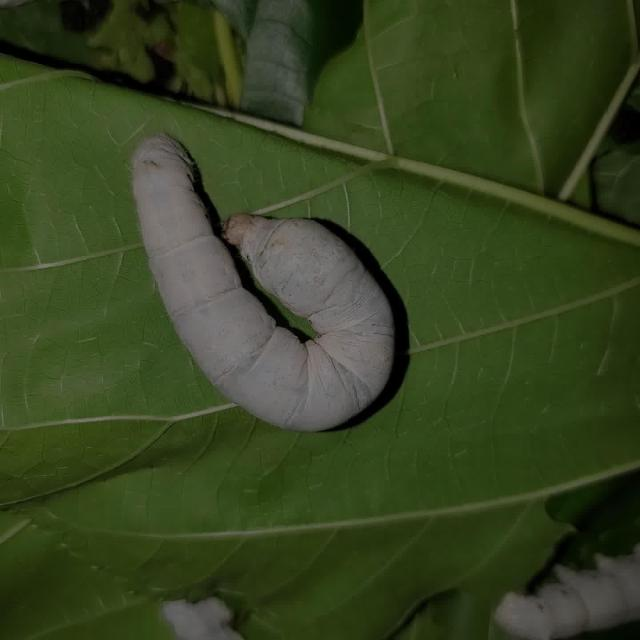Healthy: (98, 108, 413, 475)
